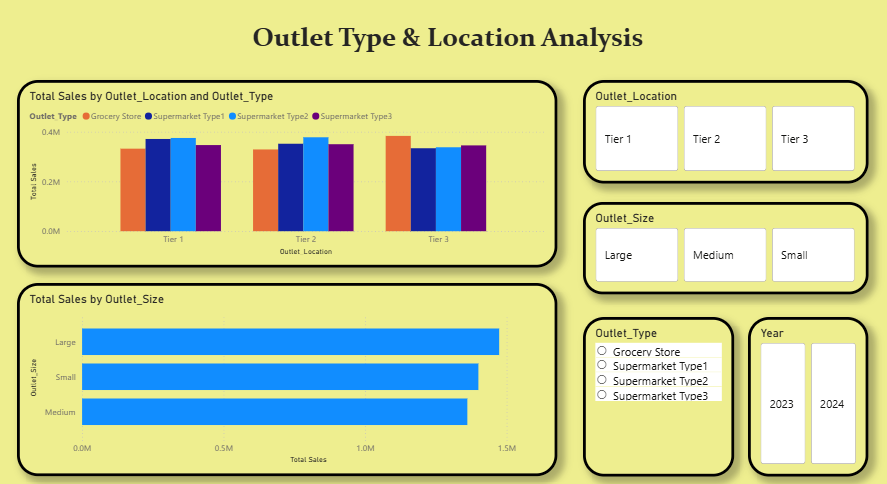

What the dashboard file says about the page in this screenshot:
{"tool":"powerbi","page":{"name":"Outlet Type & Location Analysis","canvas":[1280,720],"ordinal":2},"visuals":[{"type":"clusteredColumnChart","fields":{"Category":["Blinkit.Outlet_Location"],"Y":["Blinkit.Total Sales"],"Series":["Blinkit.Outlet_Type"]},"box":[32,120,772,268],"z":0},{"type":"barChart","fields":{"Category":["Blinkit.Outlet_Size"],"Y":["Blinkit.Total Sales"]},"box":[32,410,772,276],"z":1000},{"type":"advancedSlicerVisual","fields":{"Values":["Blinkit.Outlet_Location"]},"box":[840,120,408,148],"z":2000},{"type":"advancedSlicerVisual","fields":{"Values":["Blinkit.Outlet_Size"]},"box":[840,294,408,132],"z":3000},{"type":"listSlicer","fields":{"Values":["Blinkit.Outlet_Type"]},"box":[840,458,216,228],"z":4000},{"type":"advancedSlicerVisual","fields":{"Values":["Blinkit.Order_Date.Variation.Date Hierarchy.Year"]},"box":[1076,458,172,228],"z":5000},{"type":"textbox","box":[100,30,1094,70],"z":6000}]}

Visuals, with their boxes in screenshot pixels (x1, y1, x2, y2):
clusteredColumnChart - Blinkit.Outlet_Location x Blinkit.Total Sales: BBox(24, 80, 556, 265)
barChart - Blinkit.Outlet_Size x Blinkit.Total Sales: BBox(24, 280, 556, 470)
advancedSlicerVisual - Blinkit.Outlet_Location: BBox(581, 80, 862, 182)
advancedSlicerVisual - Blinkit.Outlet_Size: BBox(581, 200, 862, 291)
listSlicer - Blinkit.Outlet_Type: BBox(581, 313, 730, 470)
advancedSlicerVisual - Blinkit.Order_Date.Variation.Date Hierarchy.Year: BBox(743, 313, 862, 470)
textbox: BBox(71, 18, 825, 67)
